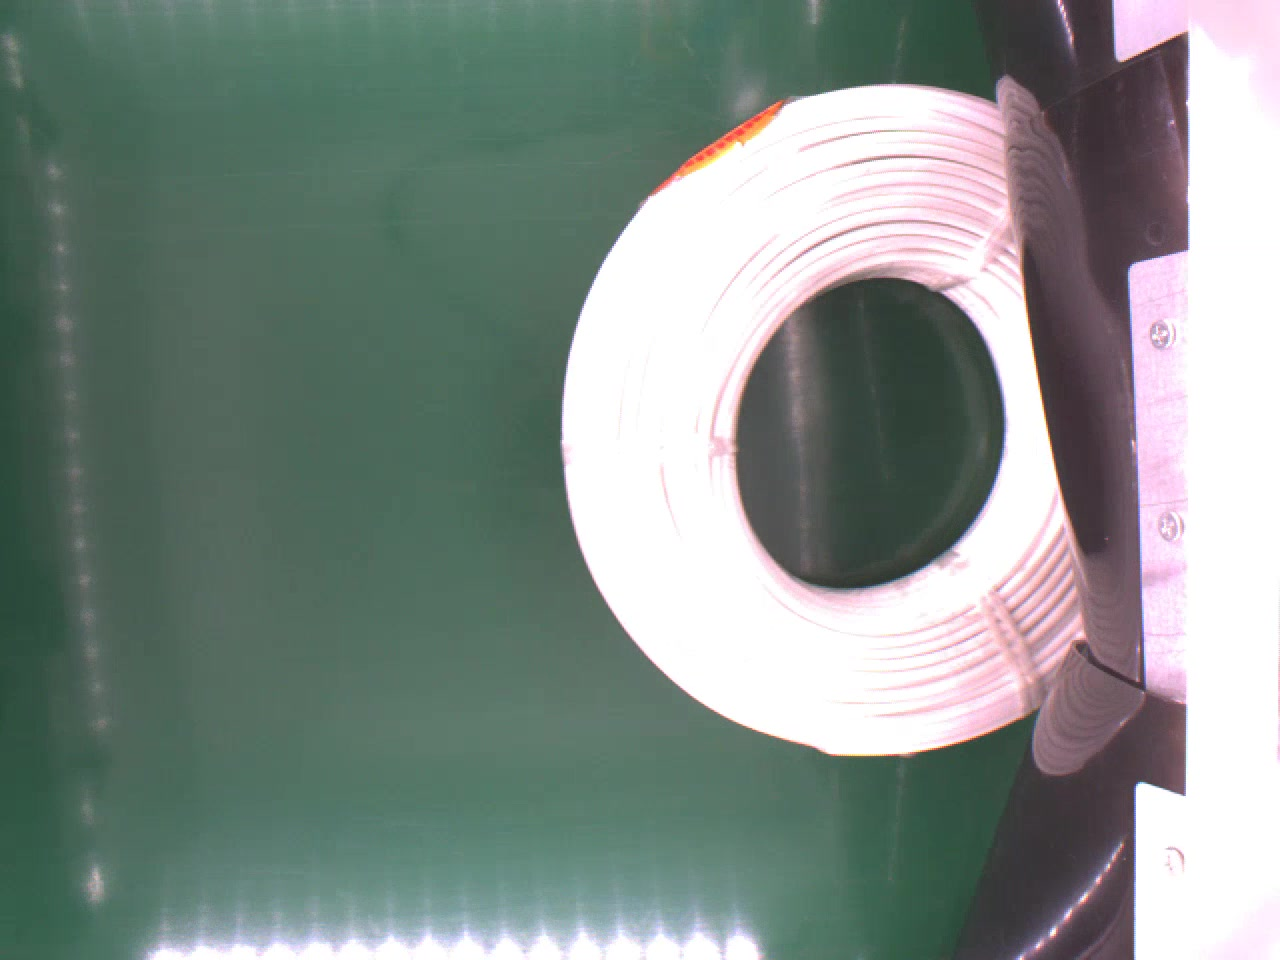white: (552, 80, 1092, 767)
